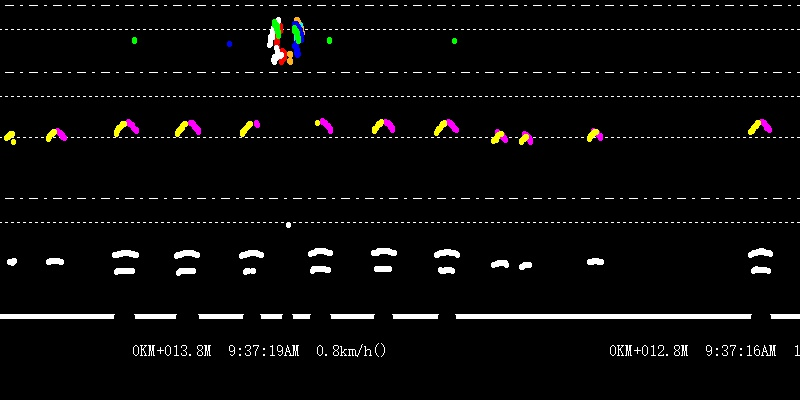J: (265, 3, 305, 66)
y_p: (106, 108, 469, 266)
